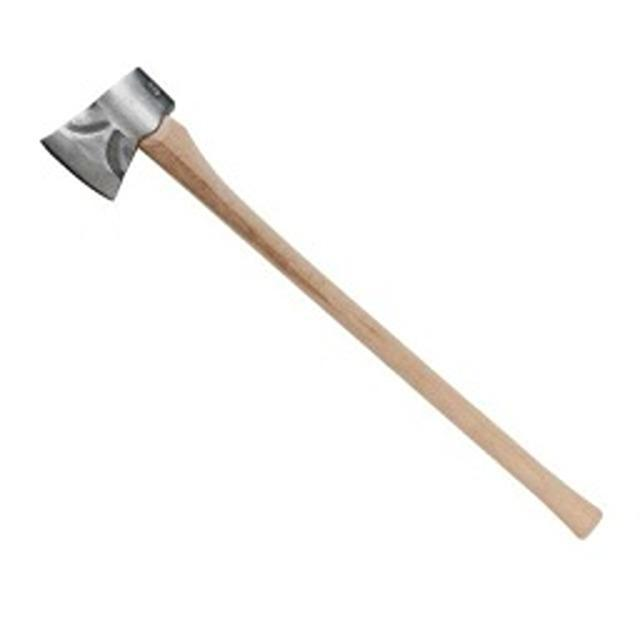ax: (28, 49, 616, 548)
